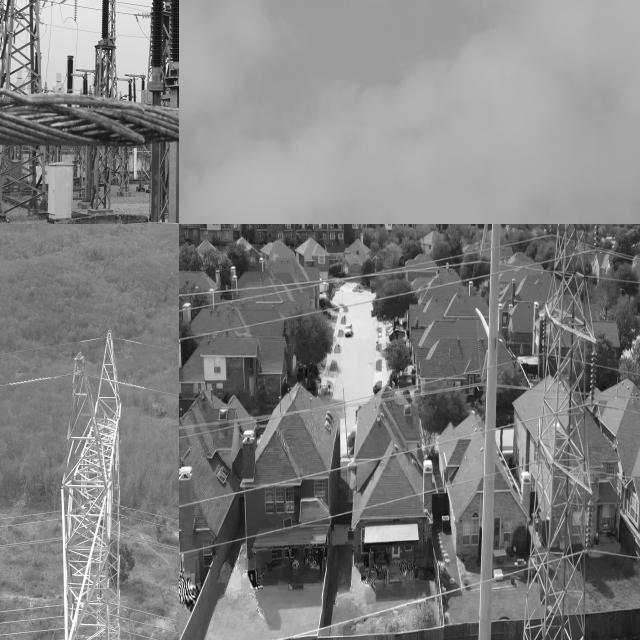杆塔: (518, 224, 595, 640), (46, 313, 139, 640)
正常电缆: (179, 459, 531, 558), (179, 426, 486, 512), (179, 269, 491, 345), (258, 564, 527, 640), (596, 546, 640, 564)
正常绝缘子: (588, 348, 598, 405), (584, 498, 594, 552), (480, 348, 491, 383), (479, 224, 489, 260), (477, 338, 484, 383), (541, 316, 548, 356), (475, 224, 482, 256), (593, 224, 602, 247), (536, 424, 540, 461), (548, 224, 555, 235)
电缆破损: (0, 54, 179, 161)
